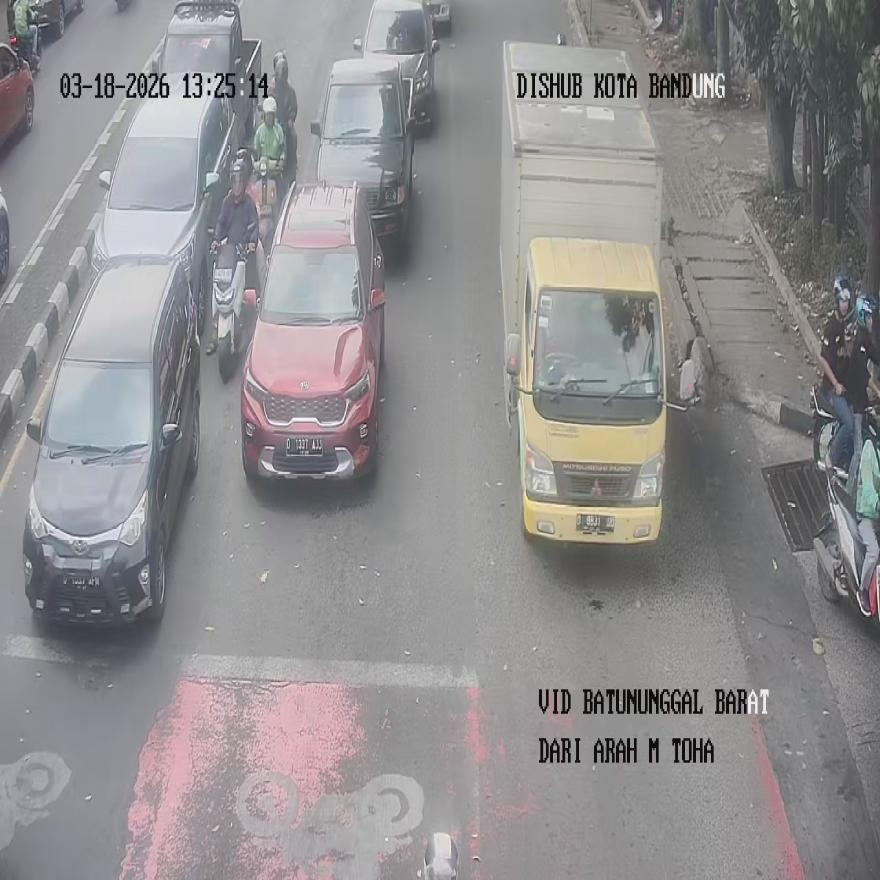Mobil: (22, 253, 200, 627), (239, 179, 385, 481), (91, 85, 236, 338), (310, 56, 415, 240), (156, 0, 261, 150), (353, 0, 438, 131)
Motor: (814, 407, 880, 621), (208, 233, 256, 382), (251, 97, 286, 215), (271, 50, 298, 177), (251, 153, 280, 253), (10, 22, 40, 73)
Truk ringan: (501, 42, 699, 540)
